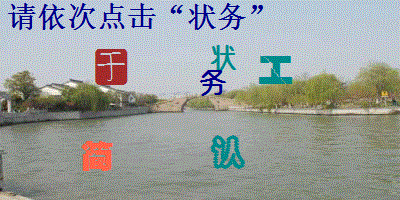result: (187, 2, 248, 31)
text: (93, 46, 129, 86), (209, 134, 247, 171), (256, 53, 295, 86), (79, 139, 114, 174), (209, 42, 237, 72), (200, 68, 226, 98)
